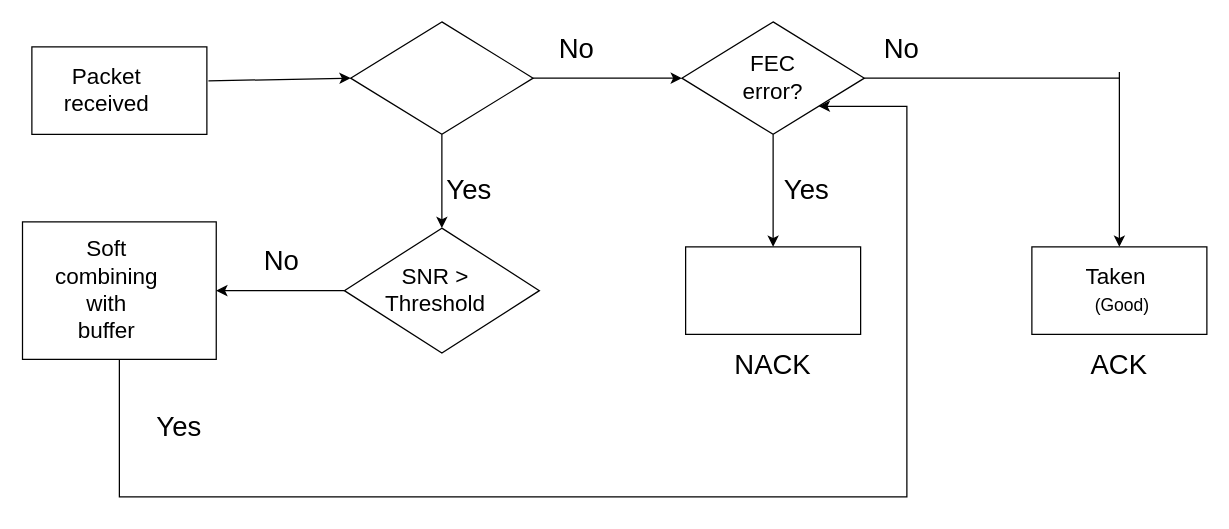
Some shapes in this 1229 by 529 pixel diagram are drawn without their labels. The shapes that lost their labels are listed below. From the top down, each one's centre as x and y in pixels, then its label:
point (441, 77): Retransmitted
point (772, 290): Sent to buffer
